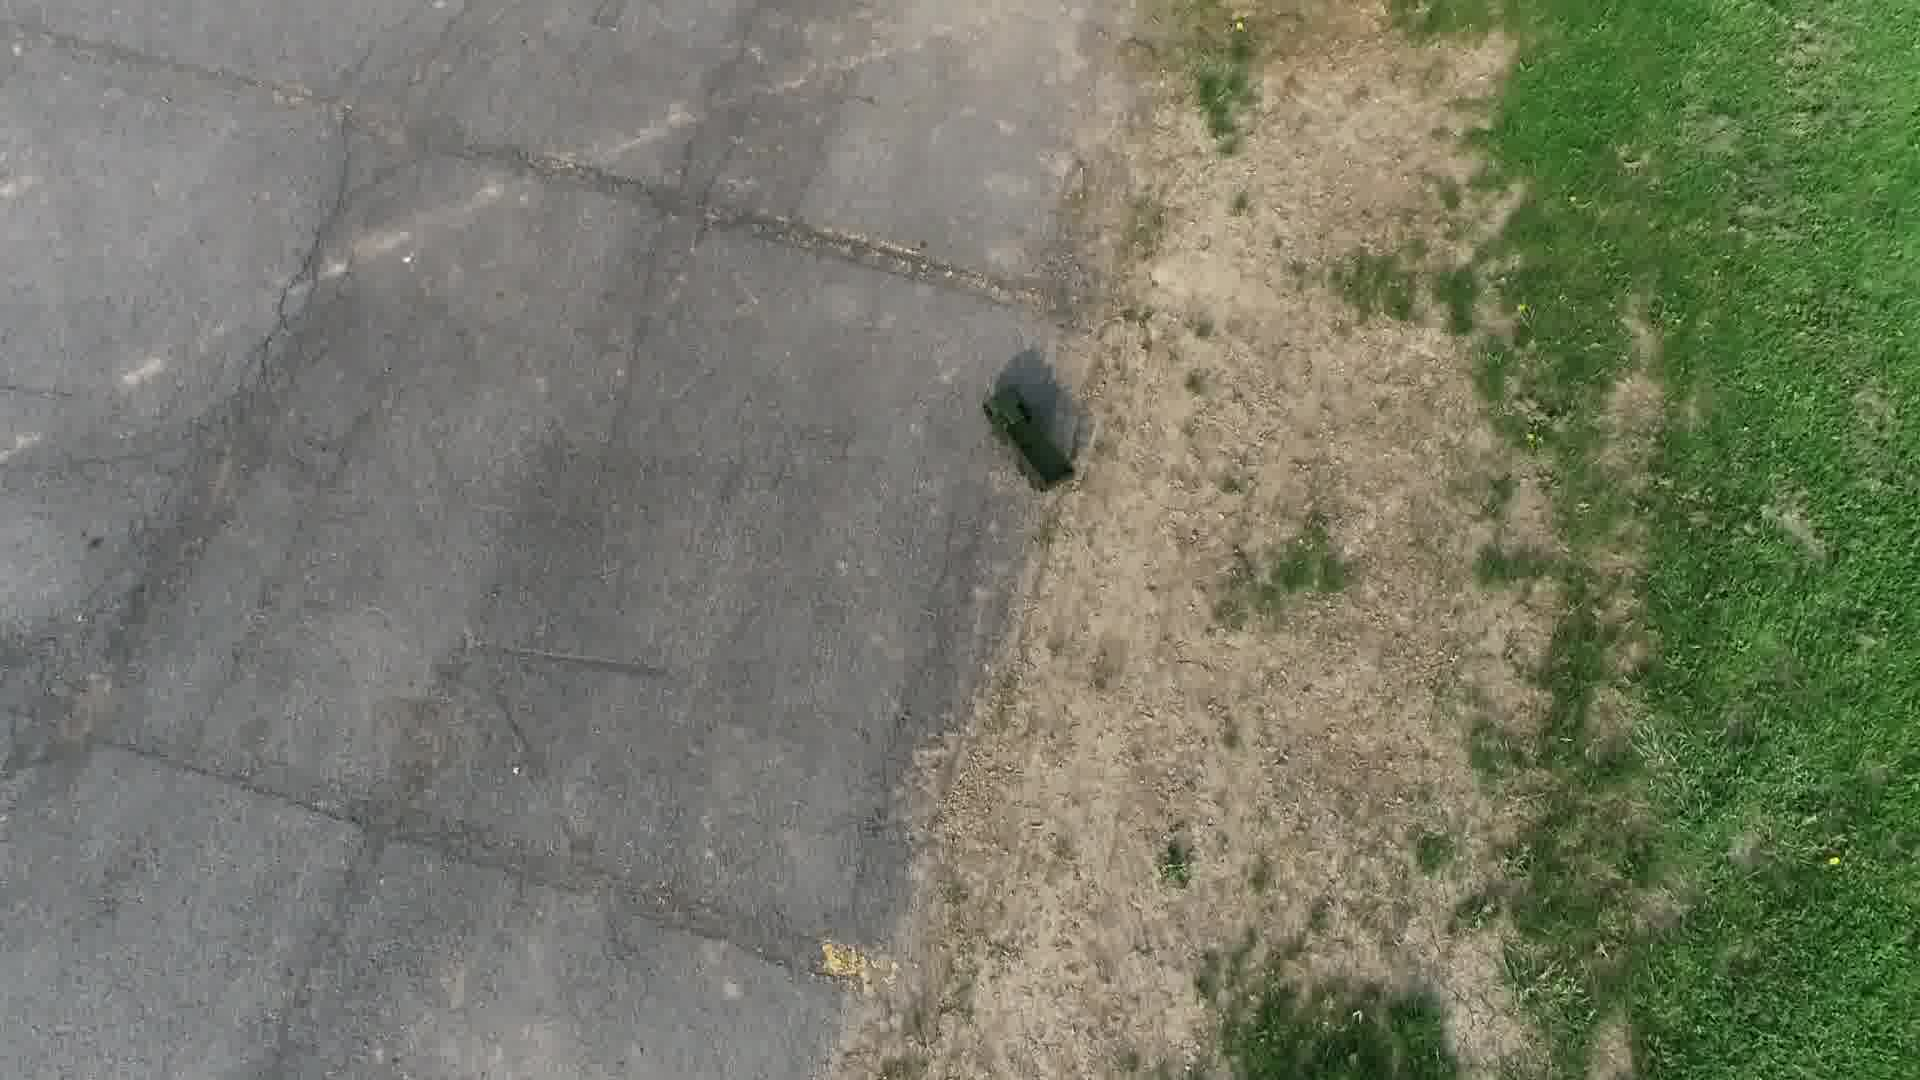transporter9: (981, 378, 1083, 496)
